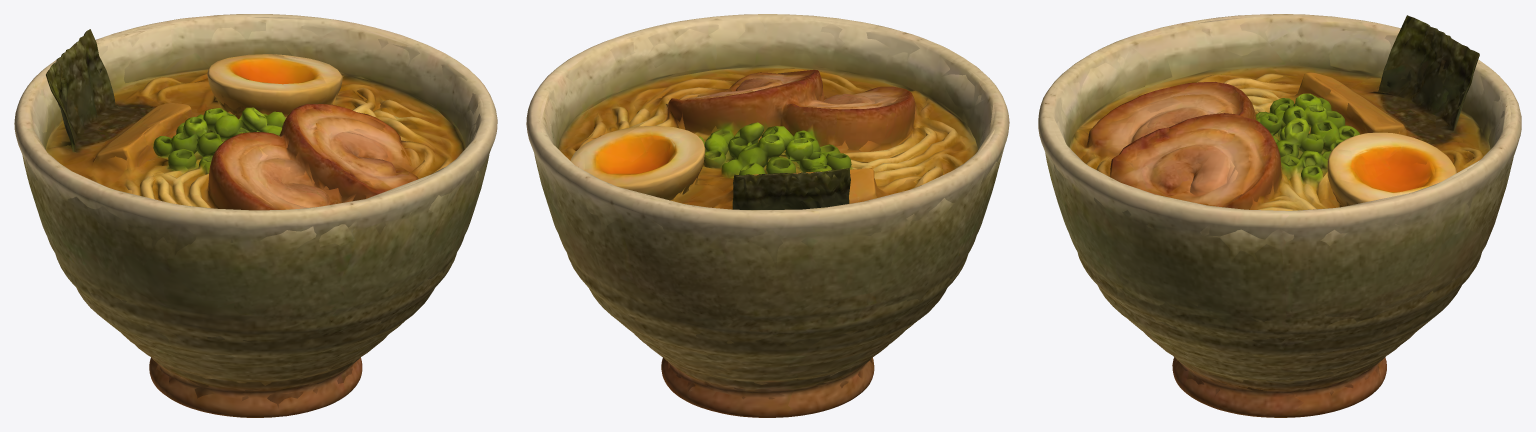
File: diner-ramen.glb
3 renders of one model, left to right at view 1: azimuth 30°, elevation 25°; view 2: azimuth 150°, elevation 25°; view 3: azimuth 270°, elevation 25°, orthographic.
Visible parts, largest first — view 1: Detailed view, Room view; view 2: Detailed view, Room view; view 3: Detailed view, Room view.
Part boxes in pixels (box(x1,y1,x2,y2)): Detailed view: box(14, 14, 497, 417); Room view: box(17, 17, 490, 408); Detailed view: box(526, 14, 1009, 417); Room view: box(529, 16, 1004, 401); Detailed view: box(1038, 14, 1521, 417); Room view: box(1045, 16, 1517, 397).
Size of the model in its own units: 0.9805 by 0.6456 by 0.978.
1 material, 1 textured.
